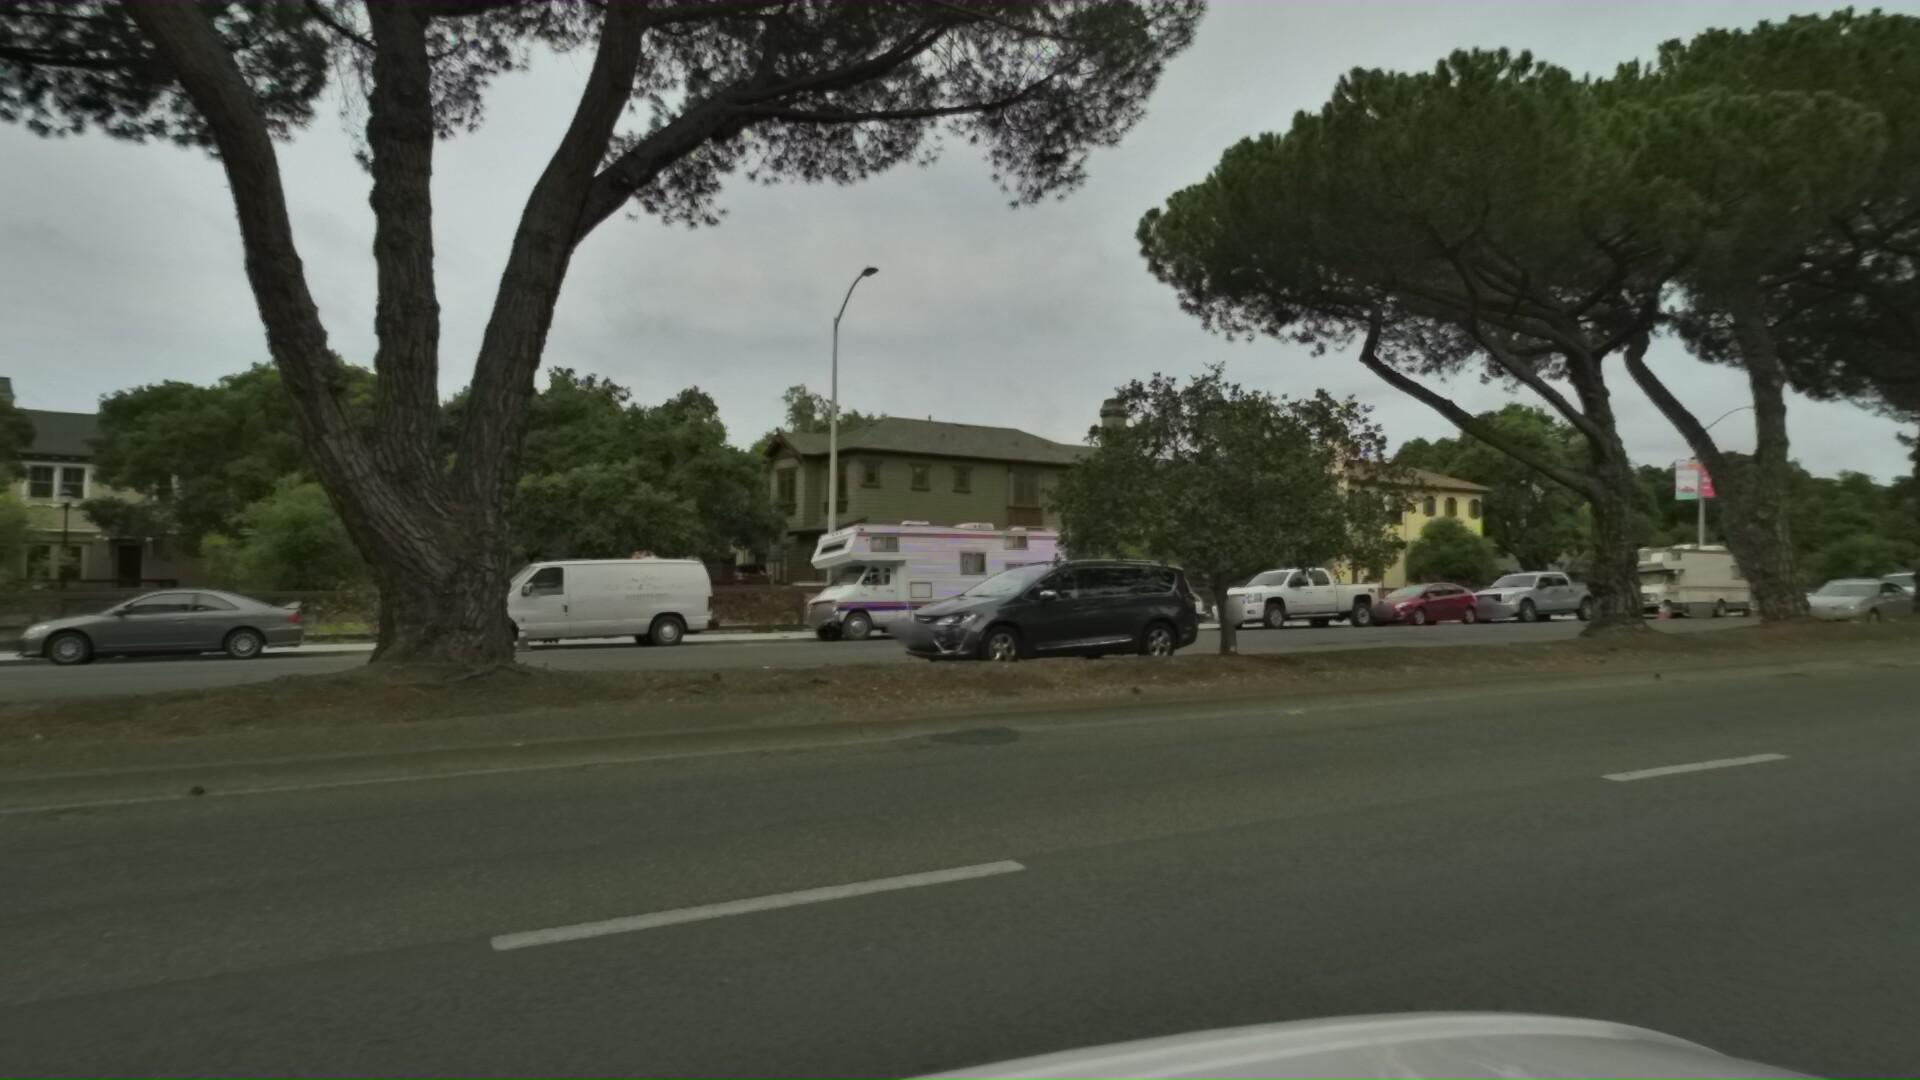car: (804, 550, 1143, 674), (410, 545, 708, 655), (1187, 556, 1383, 629), (1052, 563, 1199, 632), (1437, 562, 1600, 622), (1749, 574, 1905, 630), (1344, 574, 1478, 624), (1788, 570, 1888, 611), (1850, 562, 1920, 609), (1907, 578, 1920, 607)
other_vehicle: (767, 509, 1065, 642), (1582, 534, 1763, 617)
